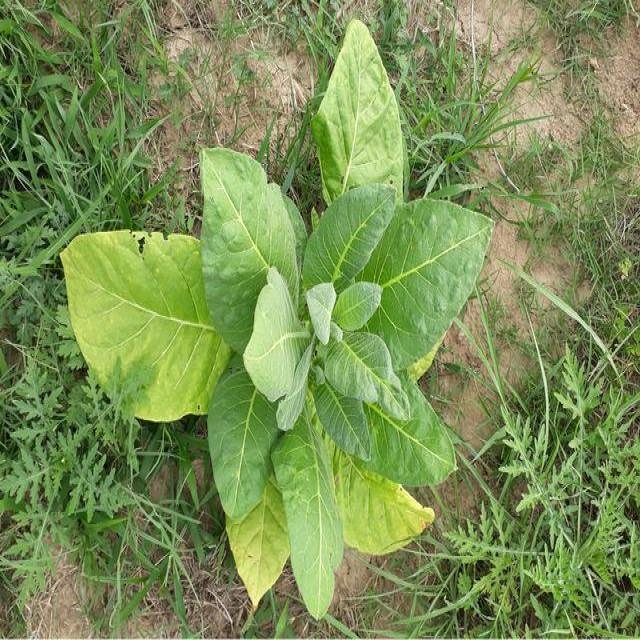crop: (60, 23, 496, 627)
